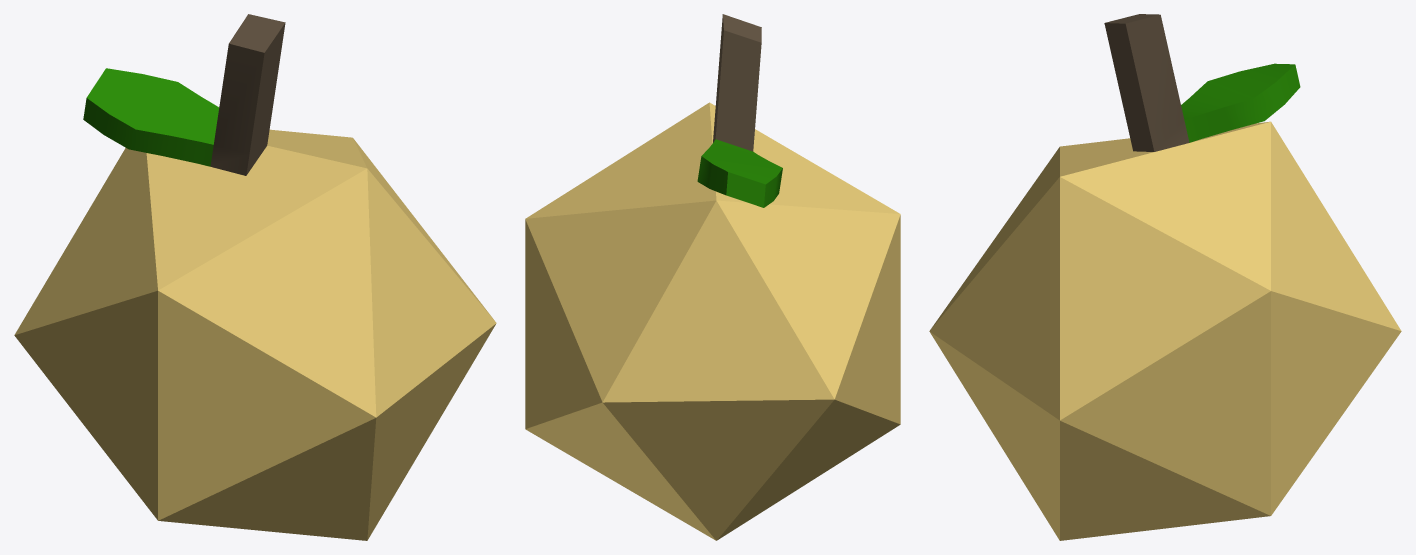
File: BeigeFruit.fbx
The picture shows the model from 3 angles, left to right: view 1: azimuth 30°, elevation 25°; view 2: azimuth 150°, elevation 25°; view 3: azimuth 270°, elevation 25°; orthographic projection. The views are drawn at different scales.
Visible parts, largest first — view 1: pPlatonic1.023, pPlatonic1.021, pPlatonic1.022; view 2: pPlatonic1.023, pPlatonic1.022, pPlatonic1.021; view 3: pPlatonic1.023, pPlatonic1.022, pPlatonic1.021.
Boxes of the visible parts, x1,y1,x2,y2 form: pPlatonic1.023: (14,129,496,540); pPlatonic1.021: (83,68,219,166); pPlatonic1.022: (210,14,285,175); pPlatonic1.023: (525,102,900,540); pPlatonic1.022: (713,14,761,151); pPlatonic1.021: (697,139,782,207); pPlatonic1.023: (929,121,1401,540); pPlatonic1.022: (1104,14,1189,151); pPlatonic1.021: (1181,63,1300,142).
Size of the model in its own units: 52.15 by 67.32 by 58.31.
